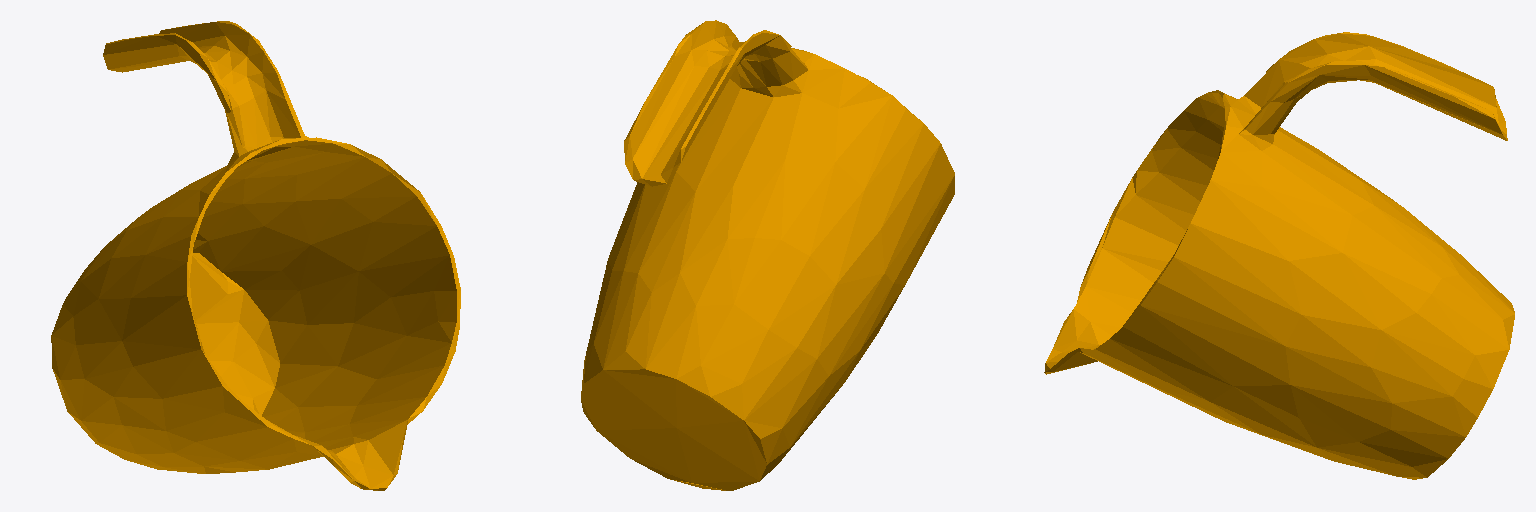
robot.urdf — Pitcher_800_tex:
<?xml version="1.0"?>
<robot name="Pitcher_800_tex">
  <link name="base_link">
    <contact>
      <lateral_friction value="1.0"/>
      <rolling_friction value="0.0"/>
      <contact_cfm value="0.0"/>
      <contact_erp value="1.0"/>
    </contact>
    <inertial>
      <mass value="0.00190048515547"/>
      <inertia ixx="1" ixy="0" ixz="0" iyy="1" iyz="0" izz="1"/>
    </inertial>
    <visual>
      <geometry>
        <mesh filename="Pitcher_800_tex_visual.obj"/>
      </geometry>
    </visual>
    <collision>
      <geometry>
        <mesh filename="Pitcher_800_tex_collision.obj"/>
      </geometry>
    </collision>
  </link>
</robot>

--- What the picture shows (computed from the rendered views, not written in the file) ---
The picture shows the robot from 3 angles, left to right: view 1: azimuth 30°, elevation 25°; view 2: azimuth 150°, elevation 25°; view 3: azimuth 270°, elevation 25°; orthographic projection.
Robot: Pitcher_800_tex — 1 links, 0 joints (none); root link base_link; default pose: every joint at zero.
Links seen in each view (by area): view 1: base_link; view 2: base_link; view 3: base_link.
Link boxes in pixels (x1,y1,x2,y2): base_link: (51,21,460,490); base_link: (581,20,954,490); base_link: (1044,32,1514,479).
Size in the robot's own frame: 0.028 by 0.045 by 0.045 metres.
1 mesh visuals loaded from 1 distinct referenced files (1 OBJ).